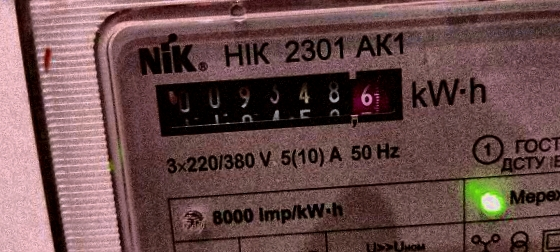0: (174, 87, 192, 114), (205, 82, 221, 109)
3: (266, 79, 282, 105)
4: (293, 75, 313, 106)
6: (356, 78, 375, 108)
8: (325, 76, 342, 105)
9: (236, 83, 252, 111)
screen: (136, 51, 419, 149)
